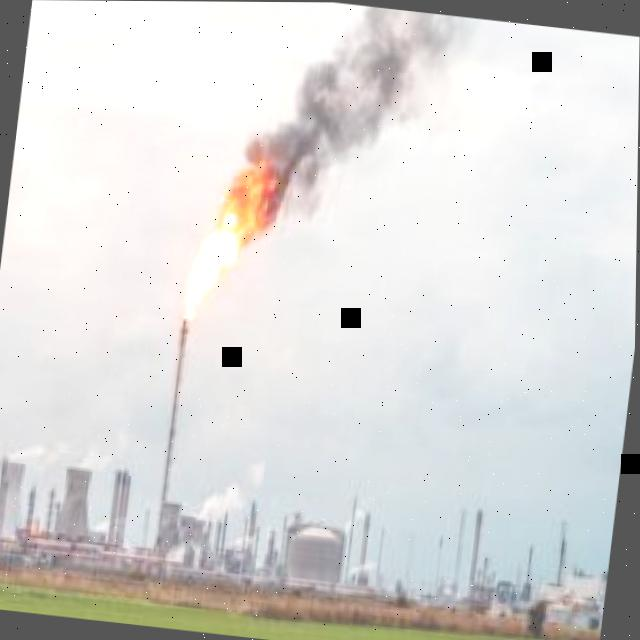fire: (185, 140, 279, 321)
smoke: (243, 5, 484, 226)
